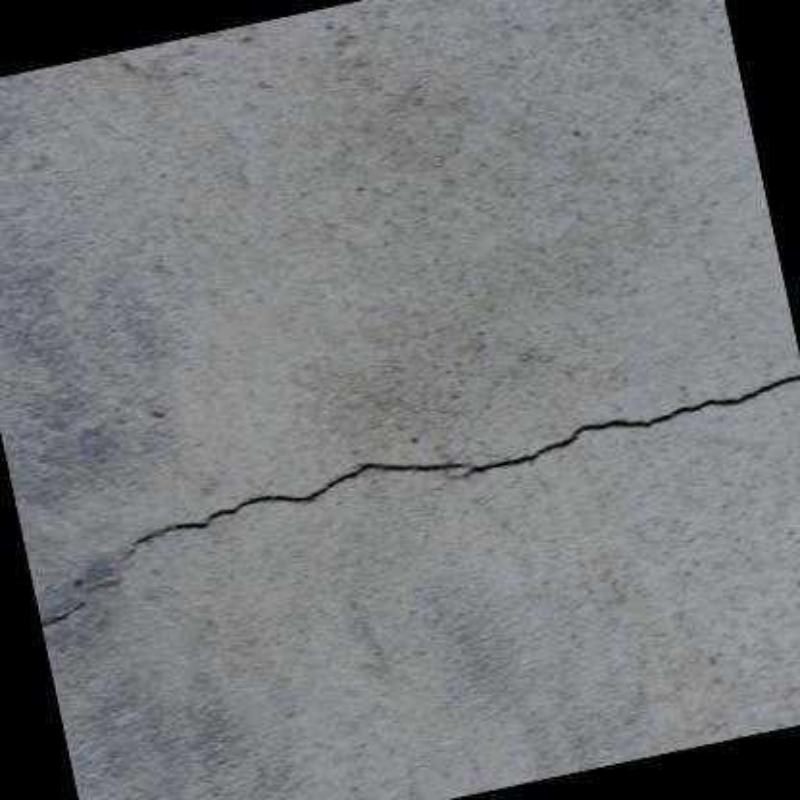pothole: (131, 372, 798, 547), (37, 544, 137, 627)
